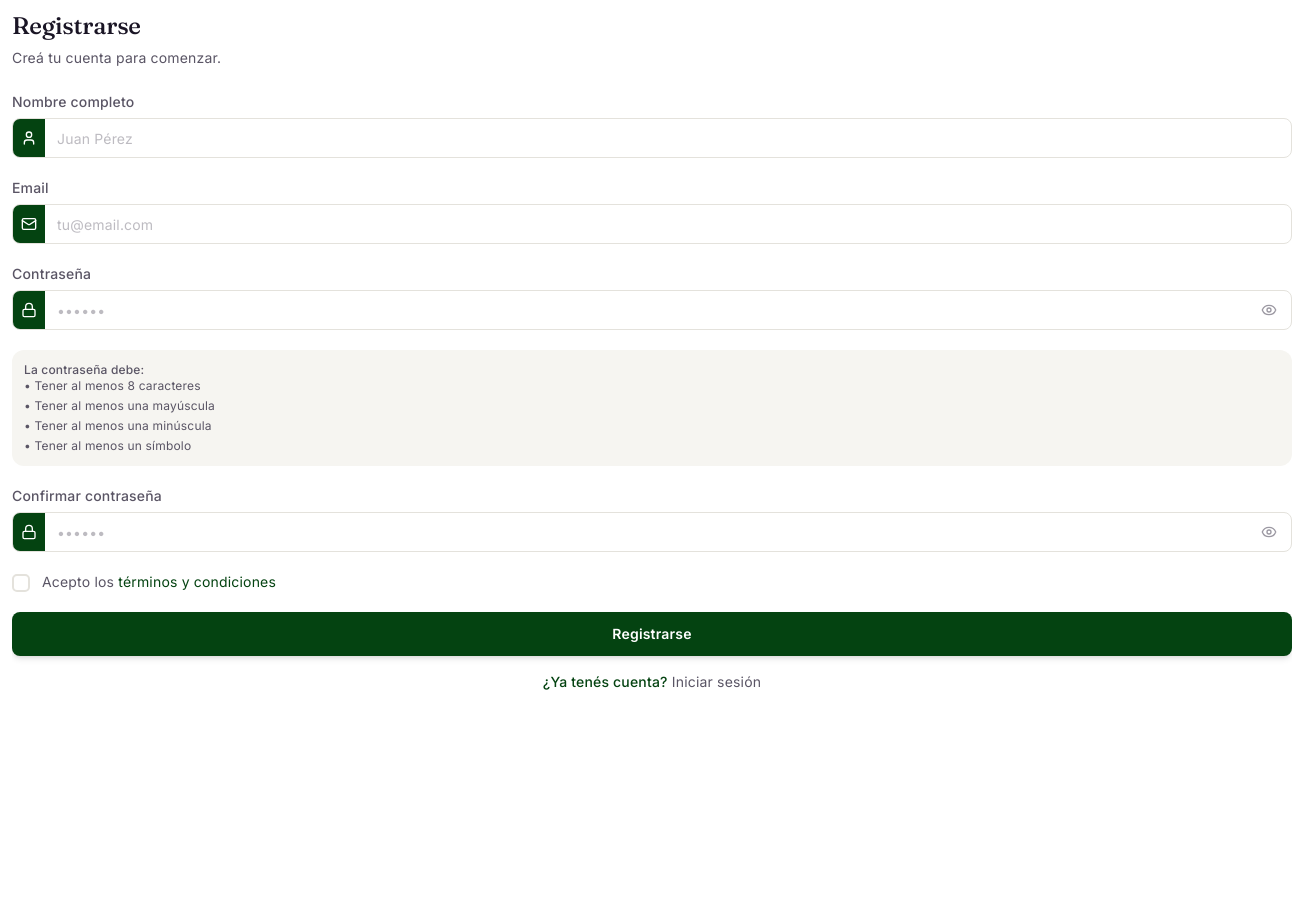
Test: RegisterPage › shows error on duplicate email
In the field with placeholder "Juan Pérez": (668,138) x1=45 y1=119 x2=1291 y2=157, type "Nuevo Usuario"
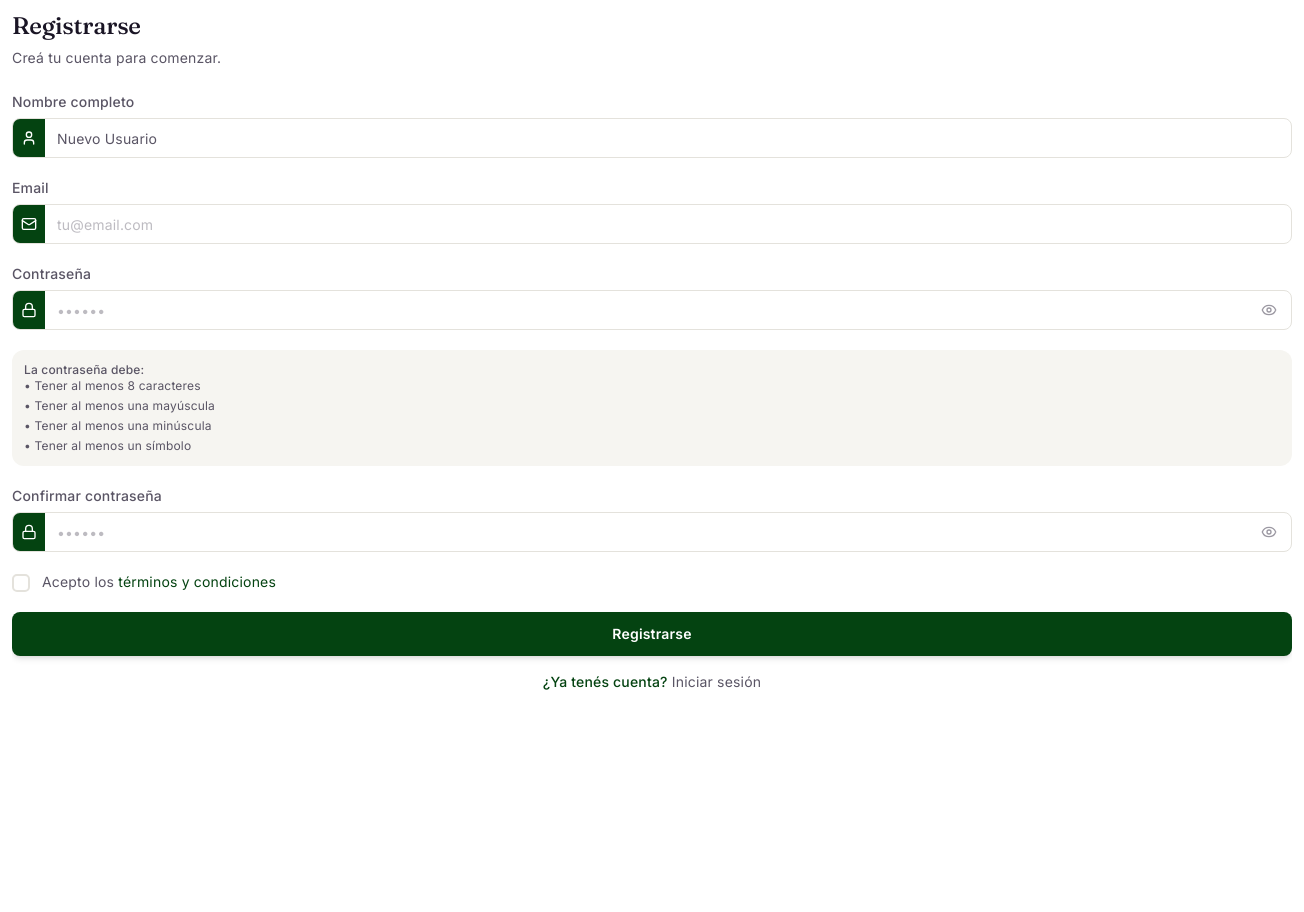
In the field with placeholder "tu@email.com": (668,224) x1=45 y1=205 x2=1291 y2=243, type "admin@test.com"
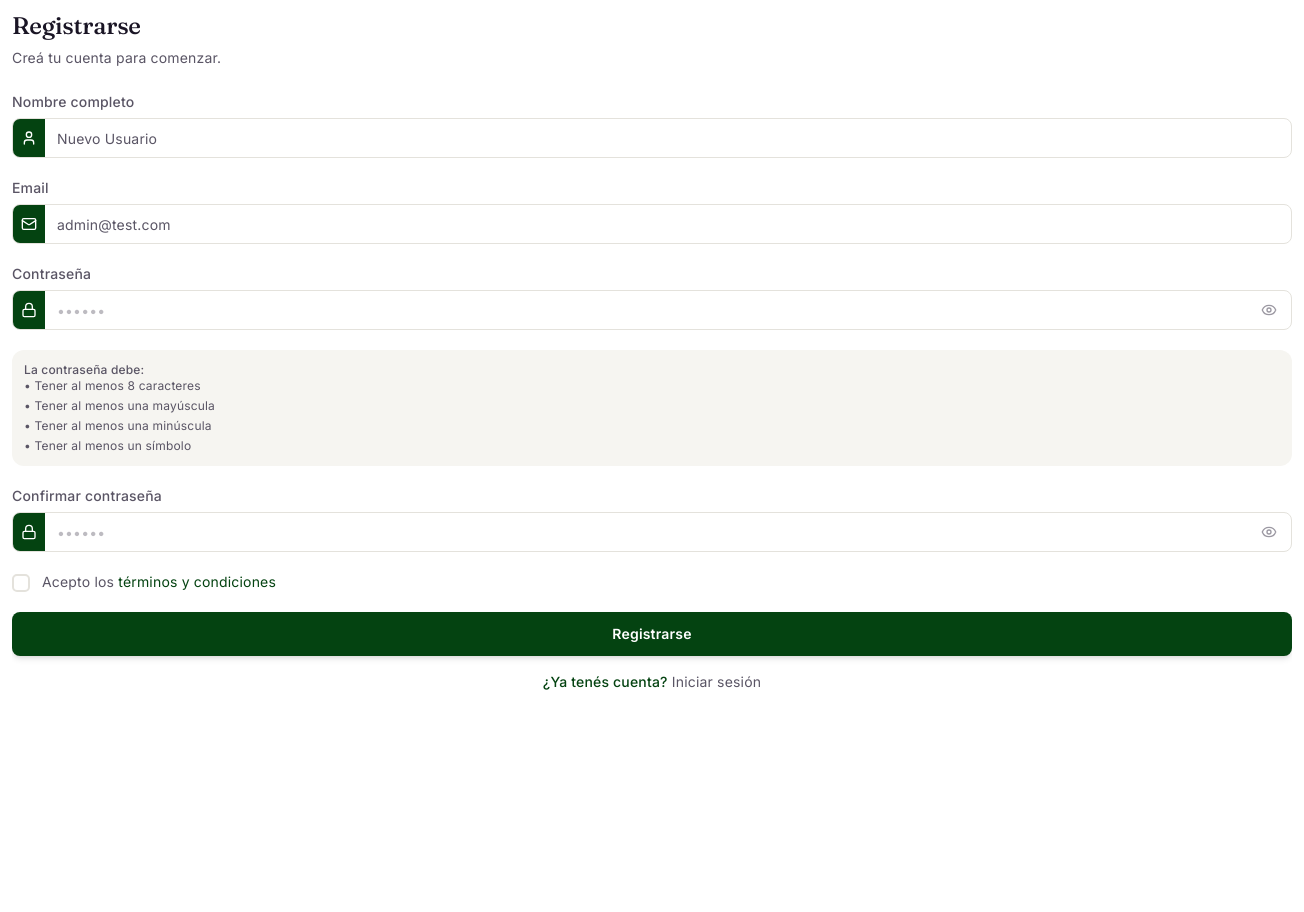
In the password field with placeholder "••••••": (651,310) x1=45 y1=291 x2=1257 y2=329, type "Password123!"
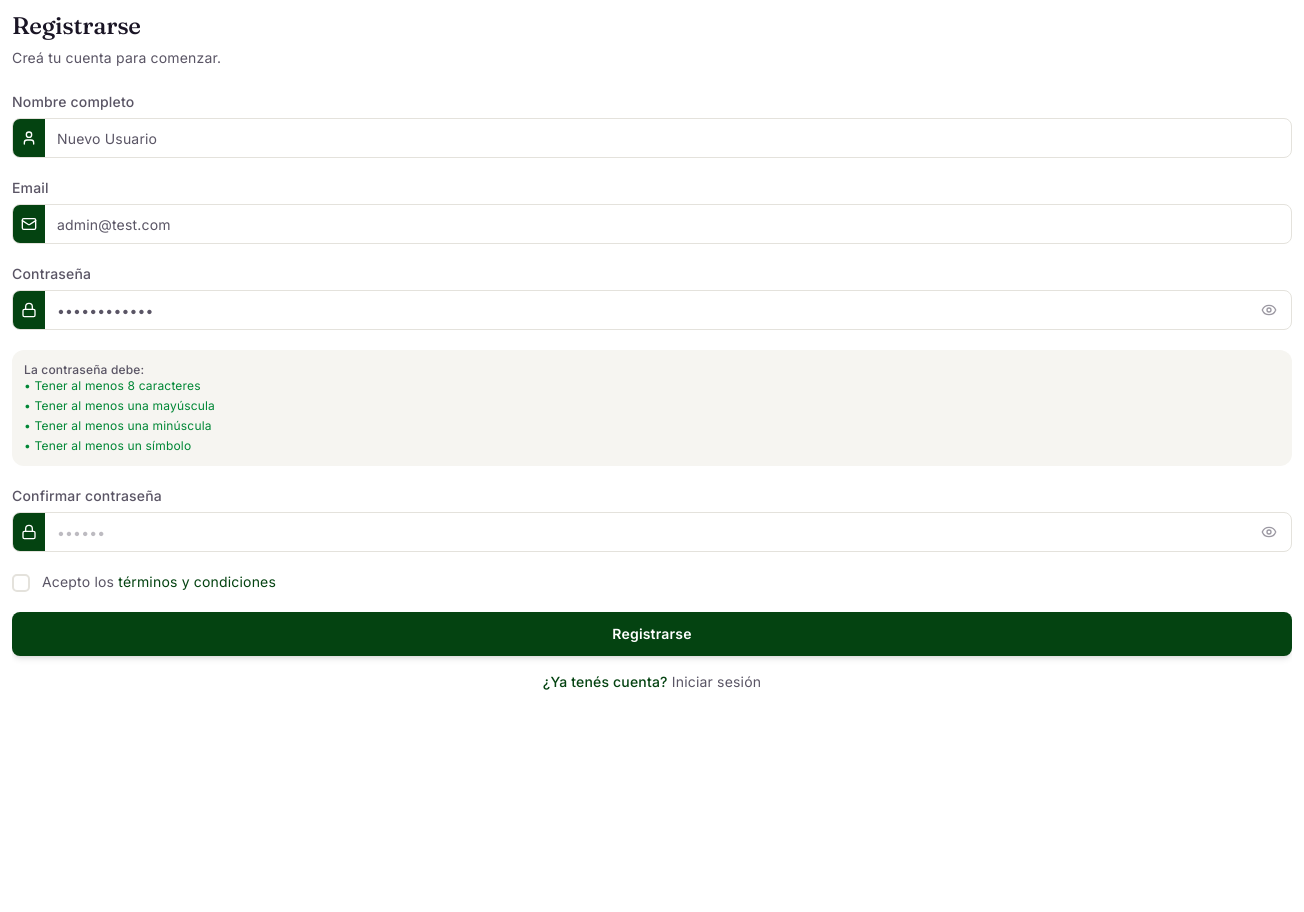
In the password field with placeholder "••••••": (651,532) x1=45 y1=513 x2=1257 y2=551, type "Password123!"
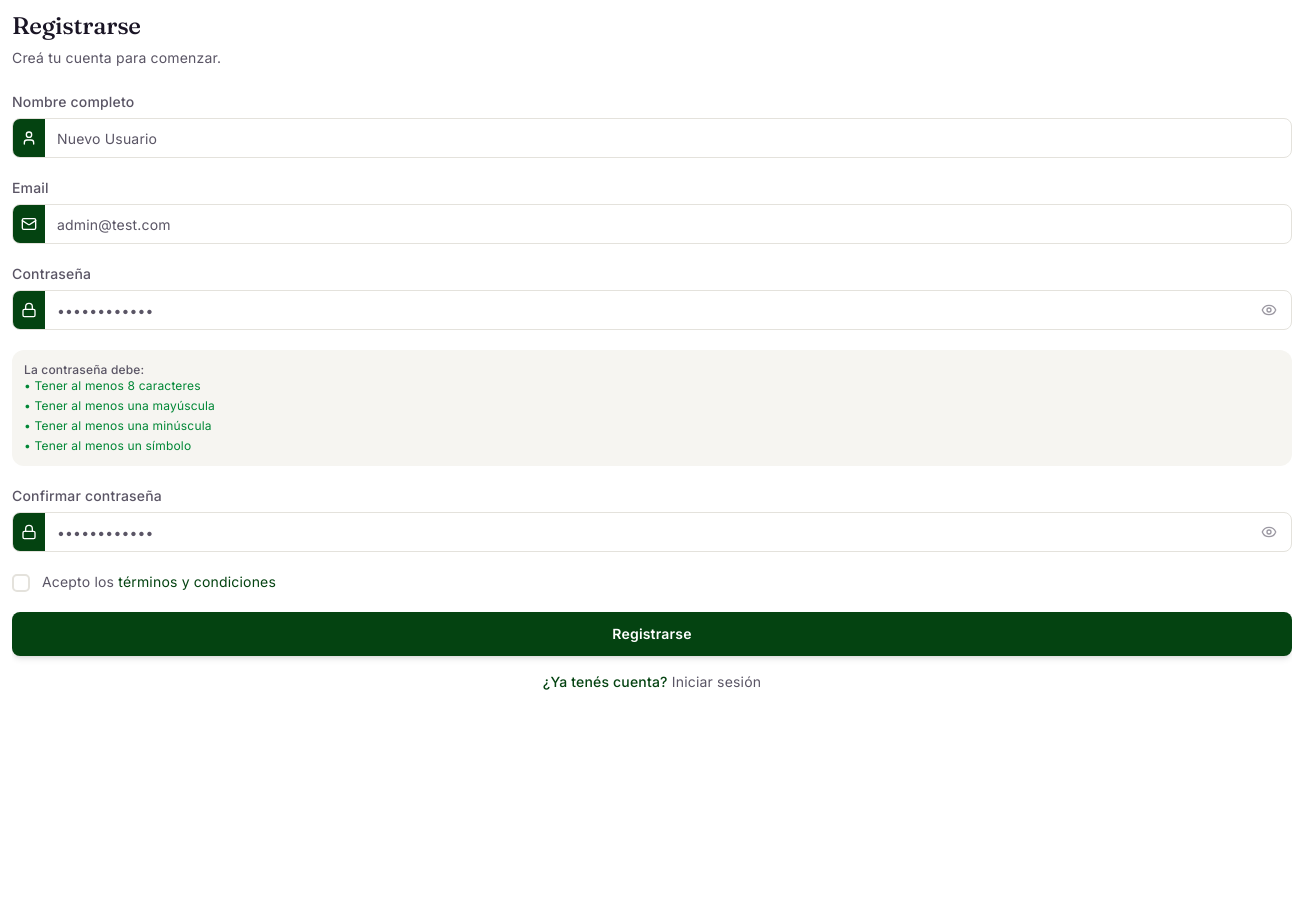
Click the checkbox: (21,583) x1=12 y1=574 x2=30 y2=592
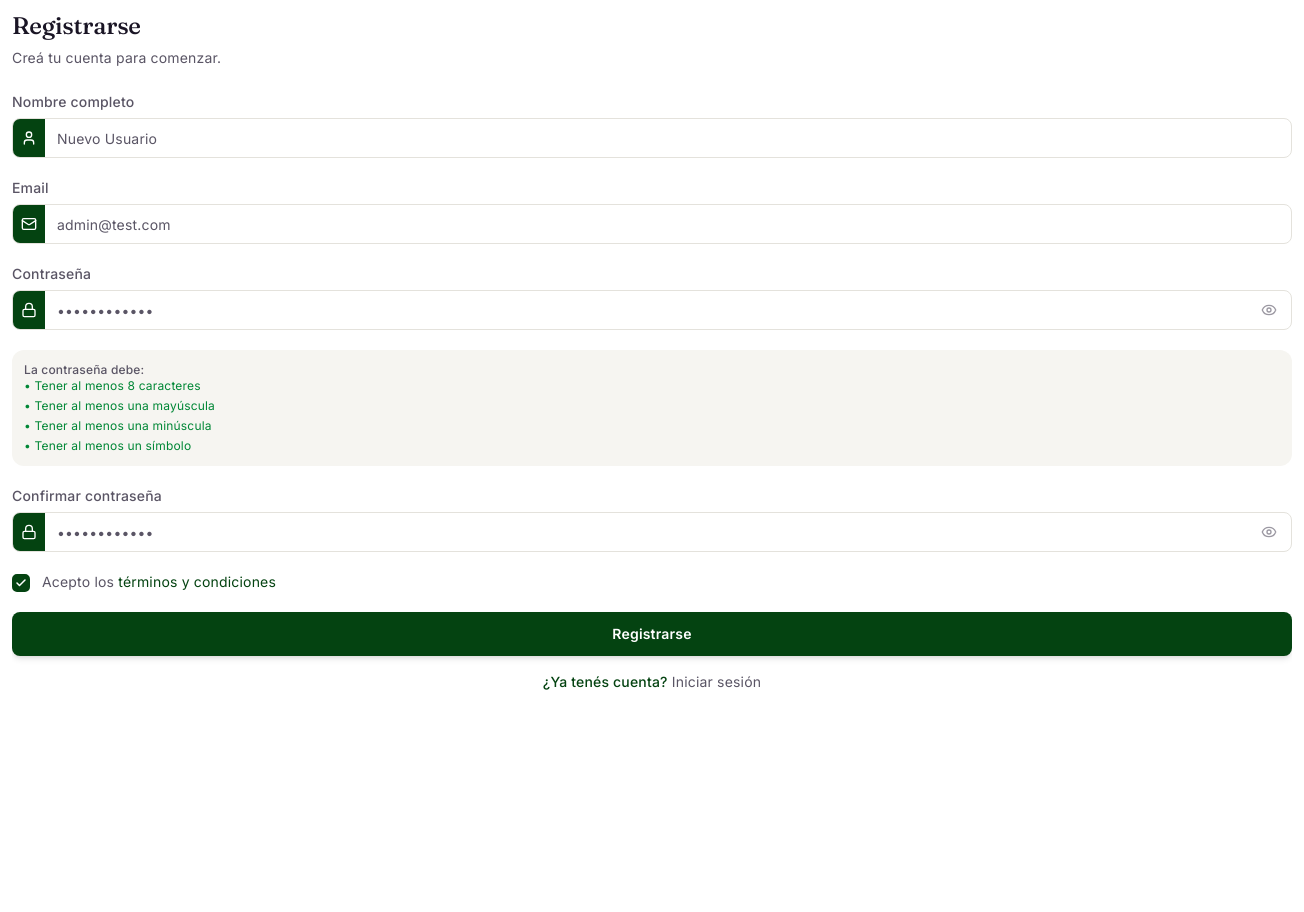
Click the button "Registrarse": (652,634) x1=12 y1=612 x2=1292 y2=656
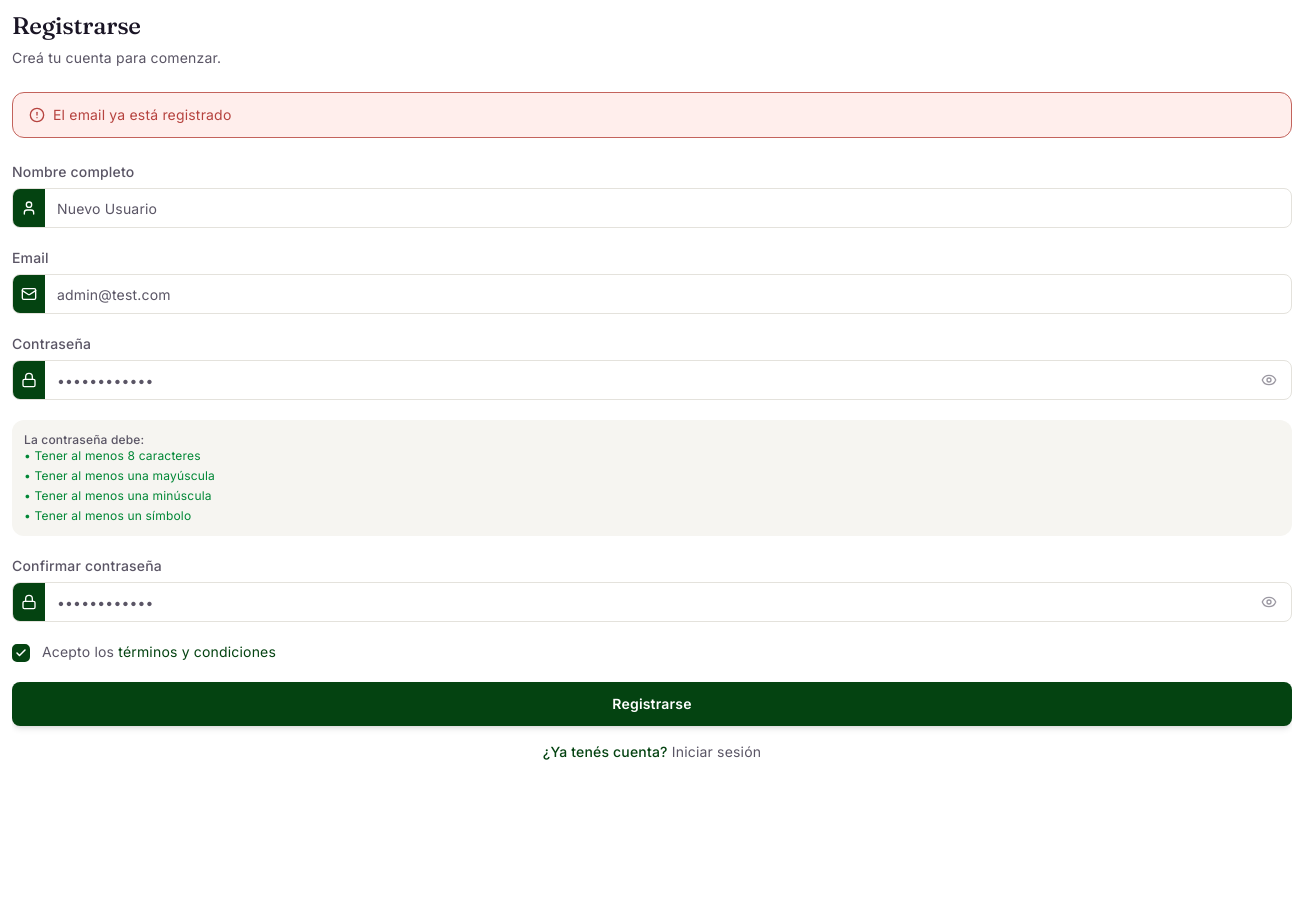
expect the text "El email ya está registrado" is shown: met, box x1=12 y1=92 x2=1292 y2=138
